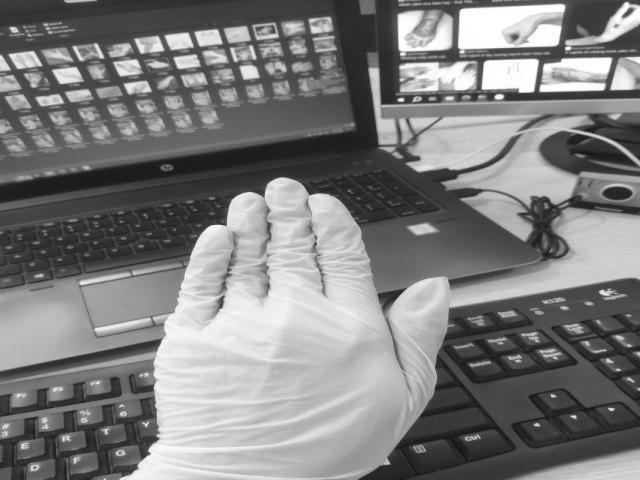gloved: (149, 175, 452, 480)
